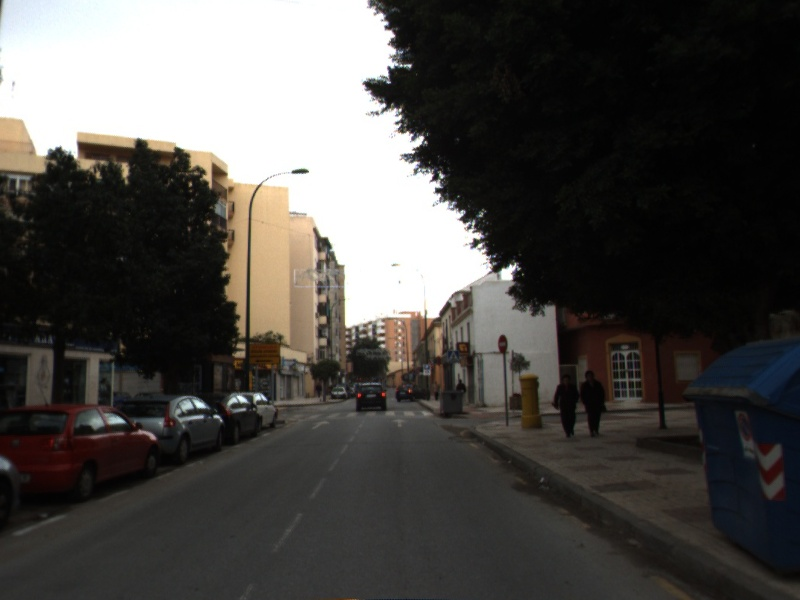STRAIGHT: (309, 419, 332, 431), (389, 417, 410, 429)
